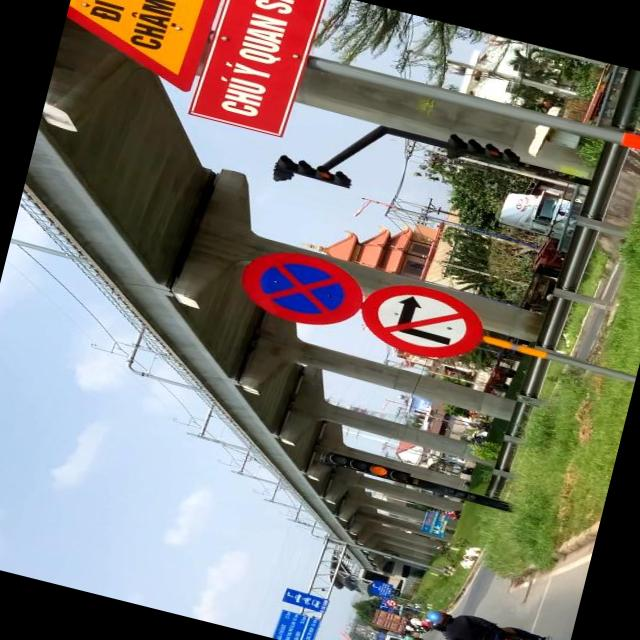P-123b: (353, 274, 488, 368)
P-130: (235, 240, 368, 333)
